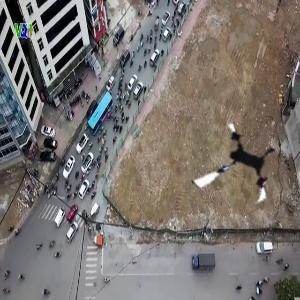drone: (190, 119, 286, 215)
